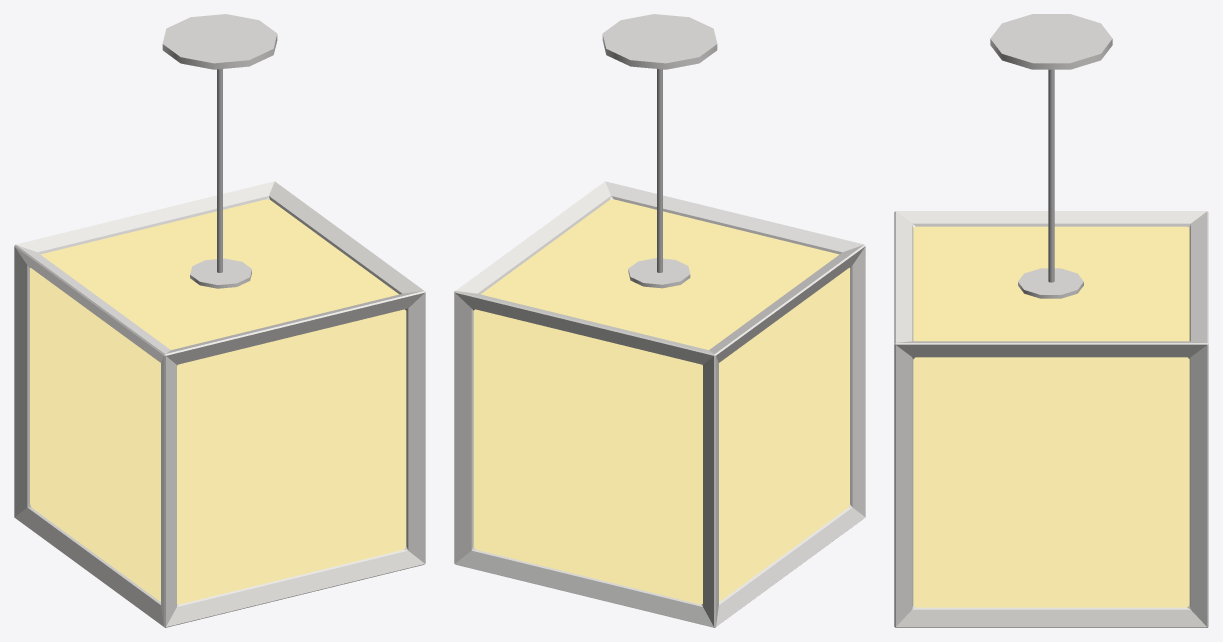
Rendered from cube_lamp.glb.
3 renders of one model, left to right at view 1: azimuth 30°, elevation 25°; view 2: azimuth 150°, elevation 25°; view 3: azimuth 270°, elevation 25°, orthographic. The views are drawn at different scales.
Parts seen in each view (by area): view 1: Light_Cube; view 2: Light_Cube; view 3: Light_Cube.
Part boxes in pixels (x1,y1,x2,y2): Light_Cube: (14,14,425,627); Light_Cube: (454,14,865,627); Light_Cube: (894,14,1208,627).
Bounding box in the file's own units: 0.5638 × 1.04 × 0.5638.
